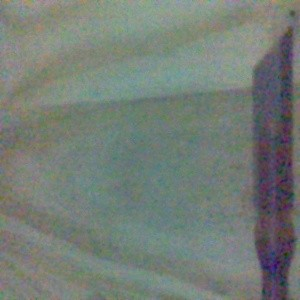cutter: (249, 23, 297, 300)
